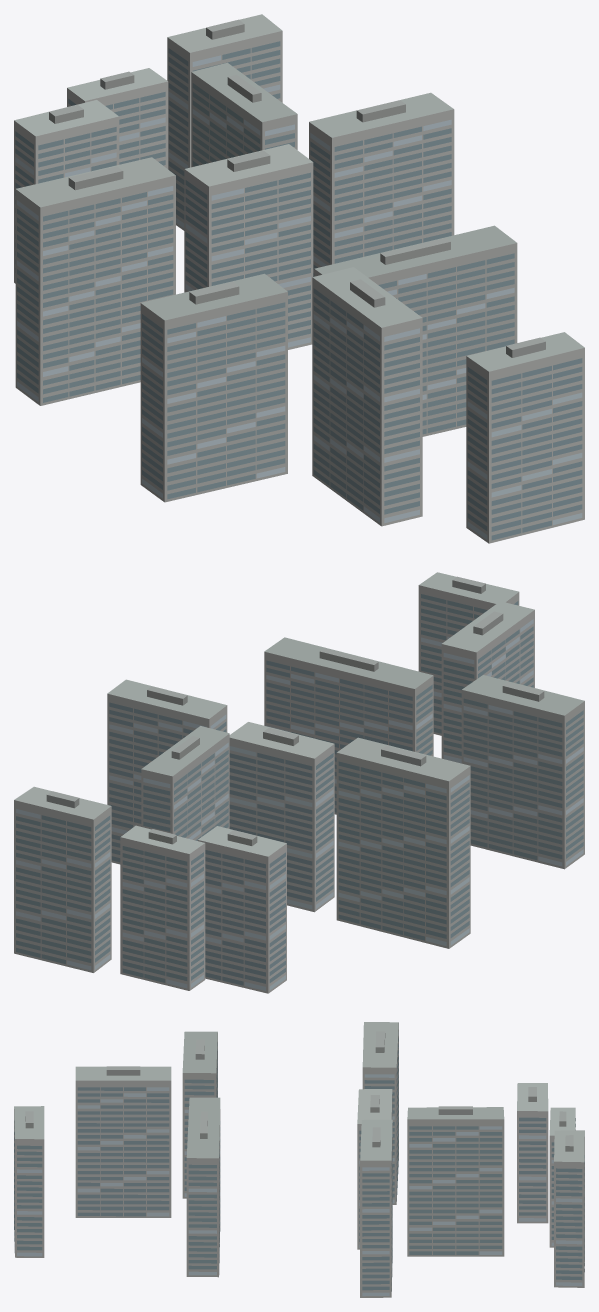
File: apt-a13613006.glb
The picture shows the model from 3 angles, top to bottom: view 1: azimuth 30°, elevation 25°; view 2: azimuth 150°, elevation 25°; view 3: azimuth 270°, elevation 25°; orthographic projection. The views are drawn at different scales.
Parts seen in each view (by area): view 1: apt-a13613006; view 2: apt-a13613006; view 3: apt-a13613006.
Part boxes in pixels (x1,y1,x2,y2): apt-a13613006: (14, 14, 584, 543); apt-a13613006: (14, 572, 584, 993); apt-a13613006: (14, 1022, 584, 1297).
Bounding box in the file's own units: 131 × 62 × 225.
